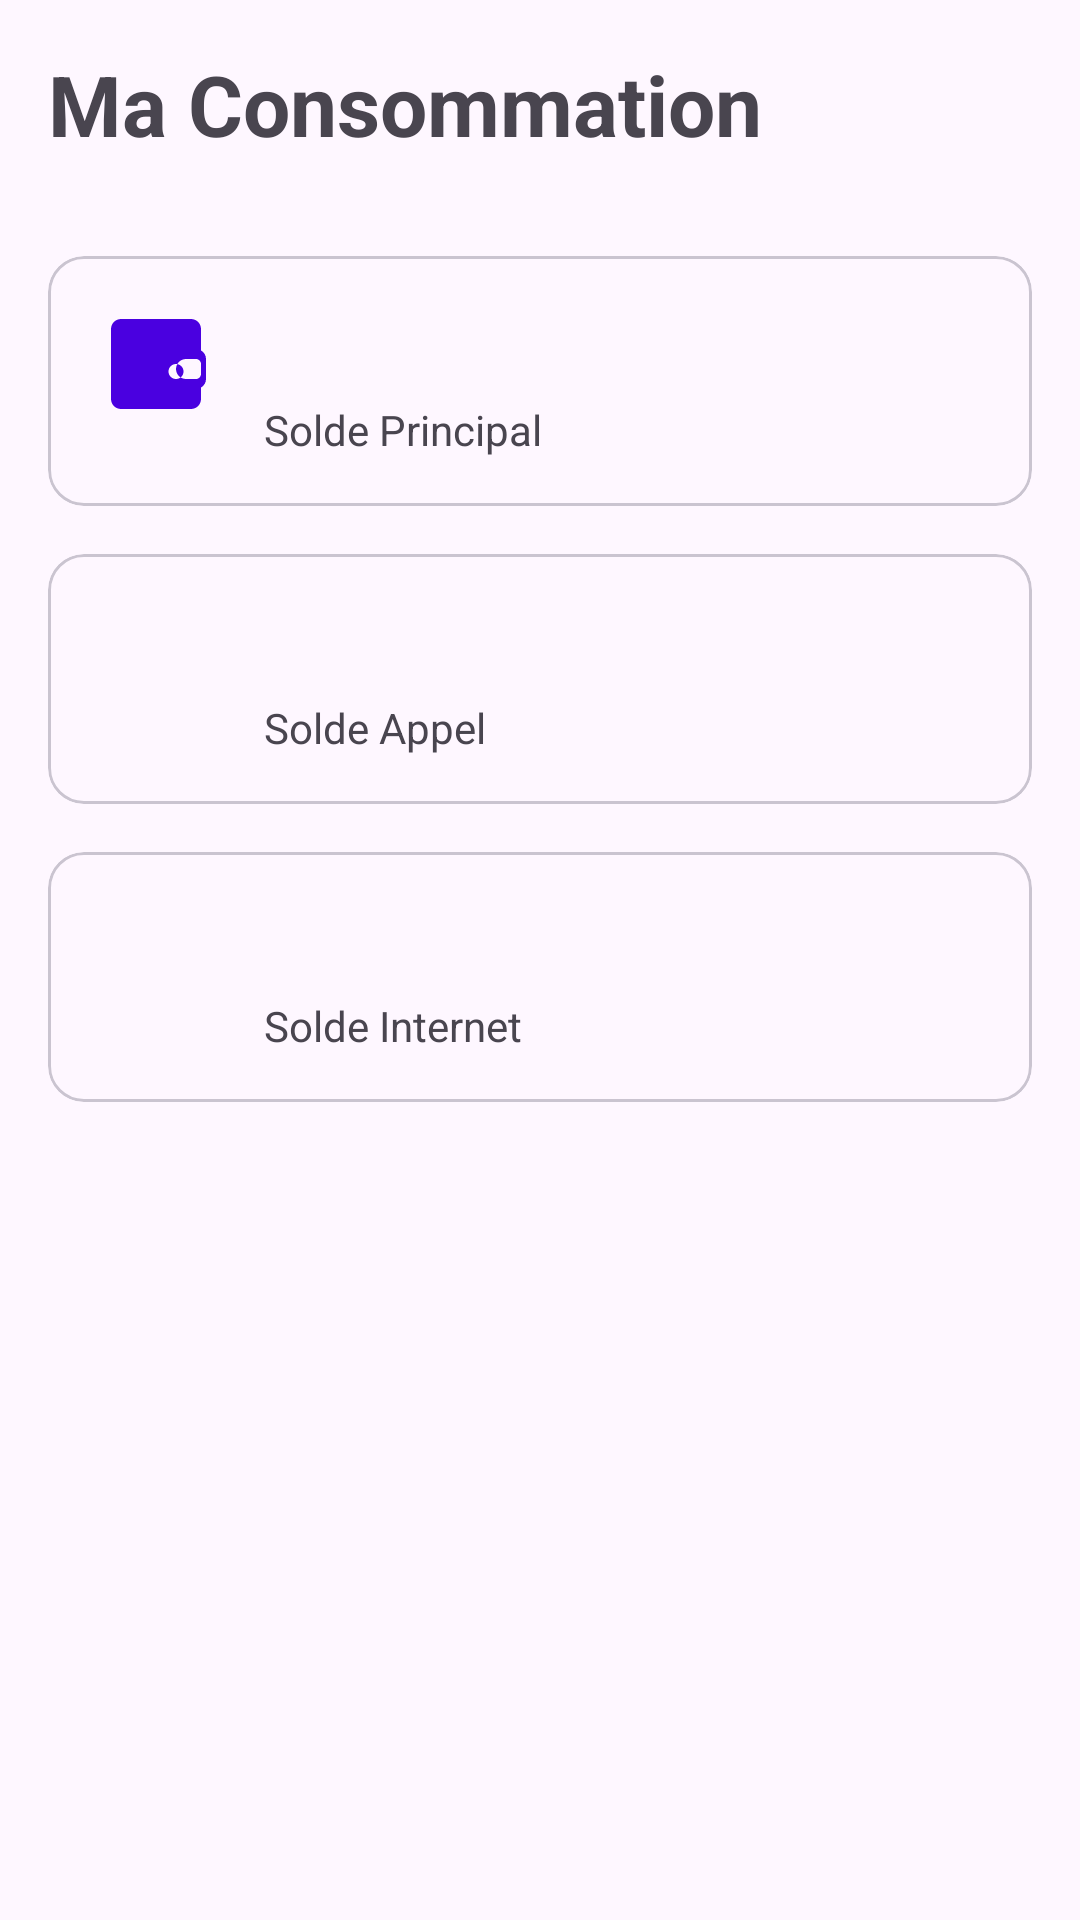

Screen size 1080px×1920px. Icon name, then its center in pixels as (x,y):
wallet: (158,364)
